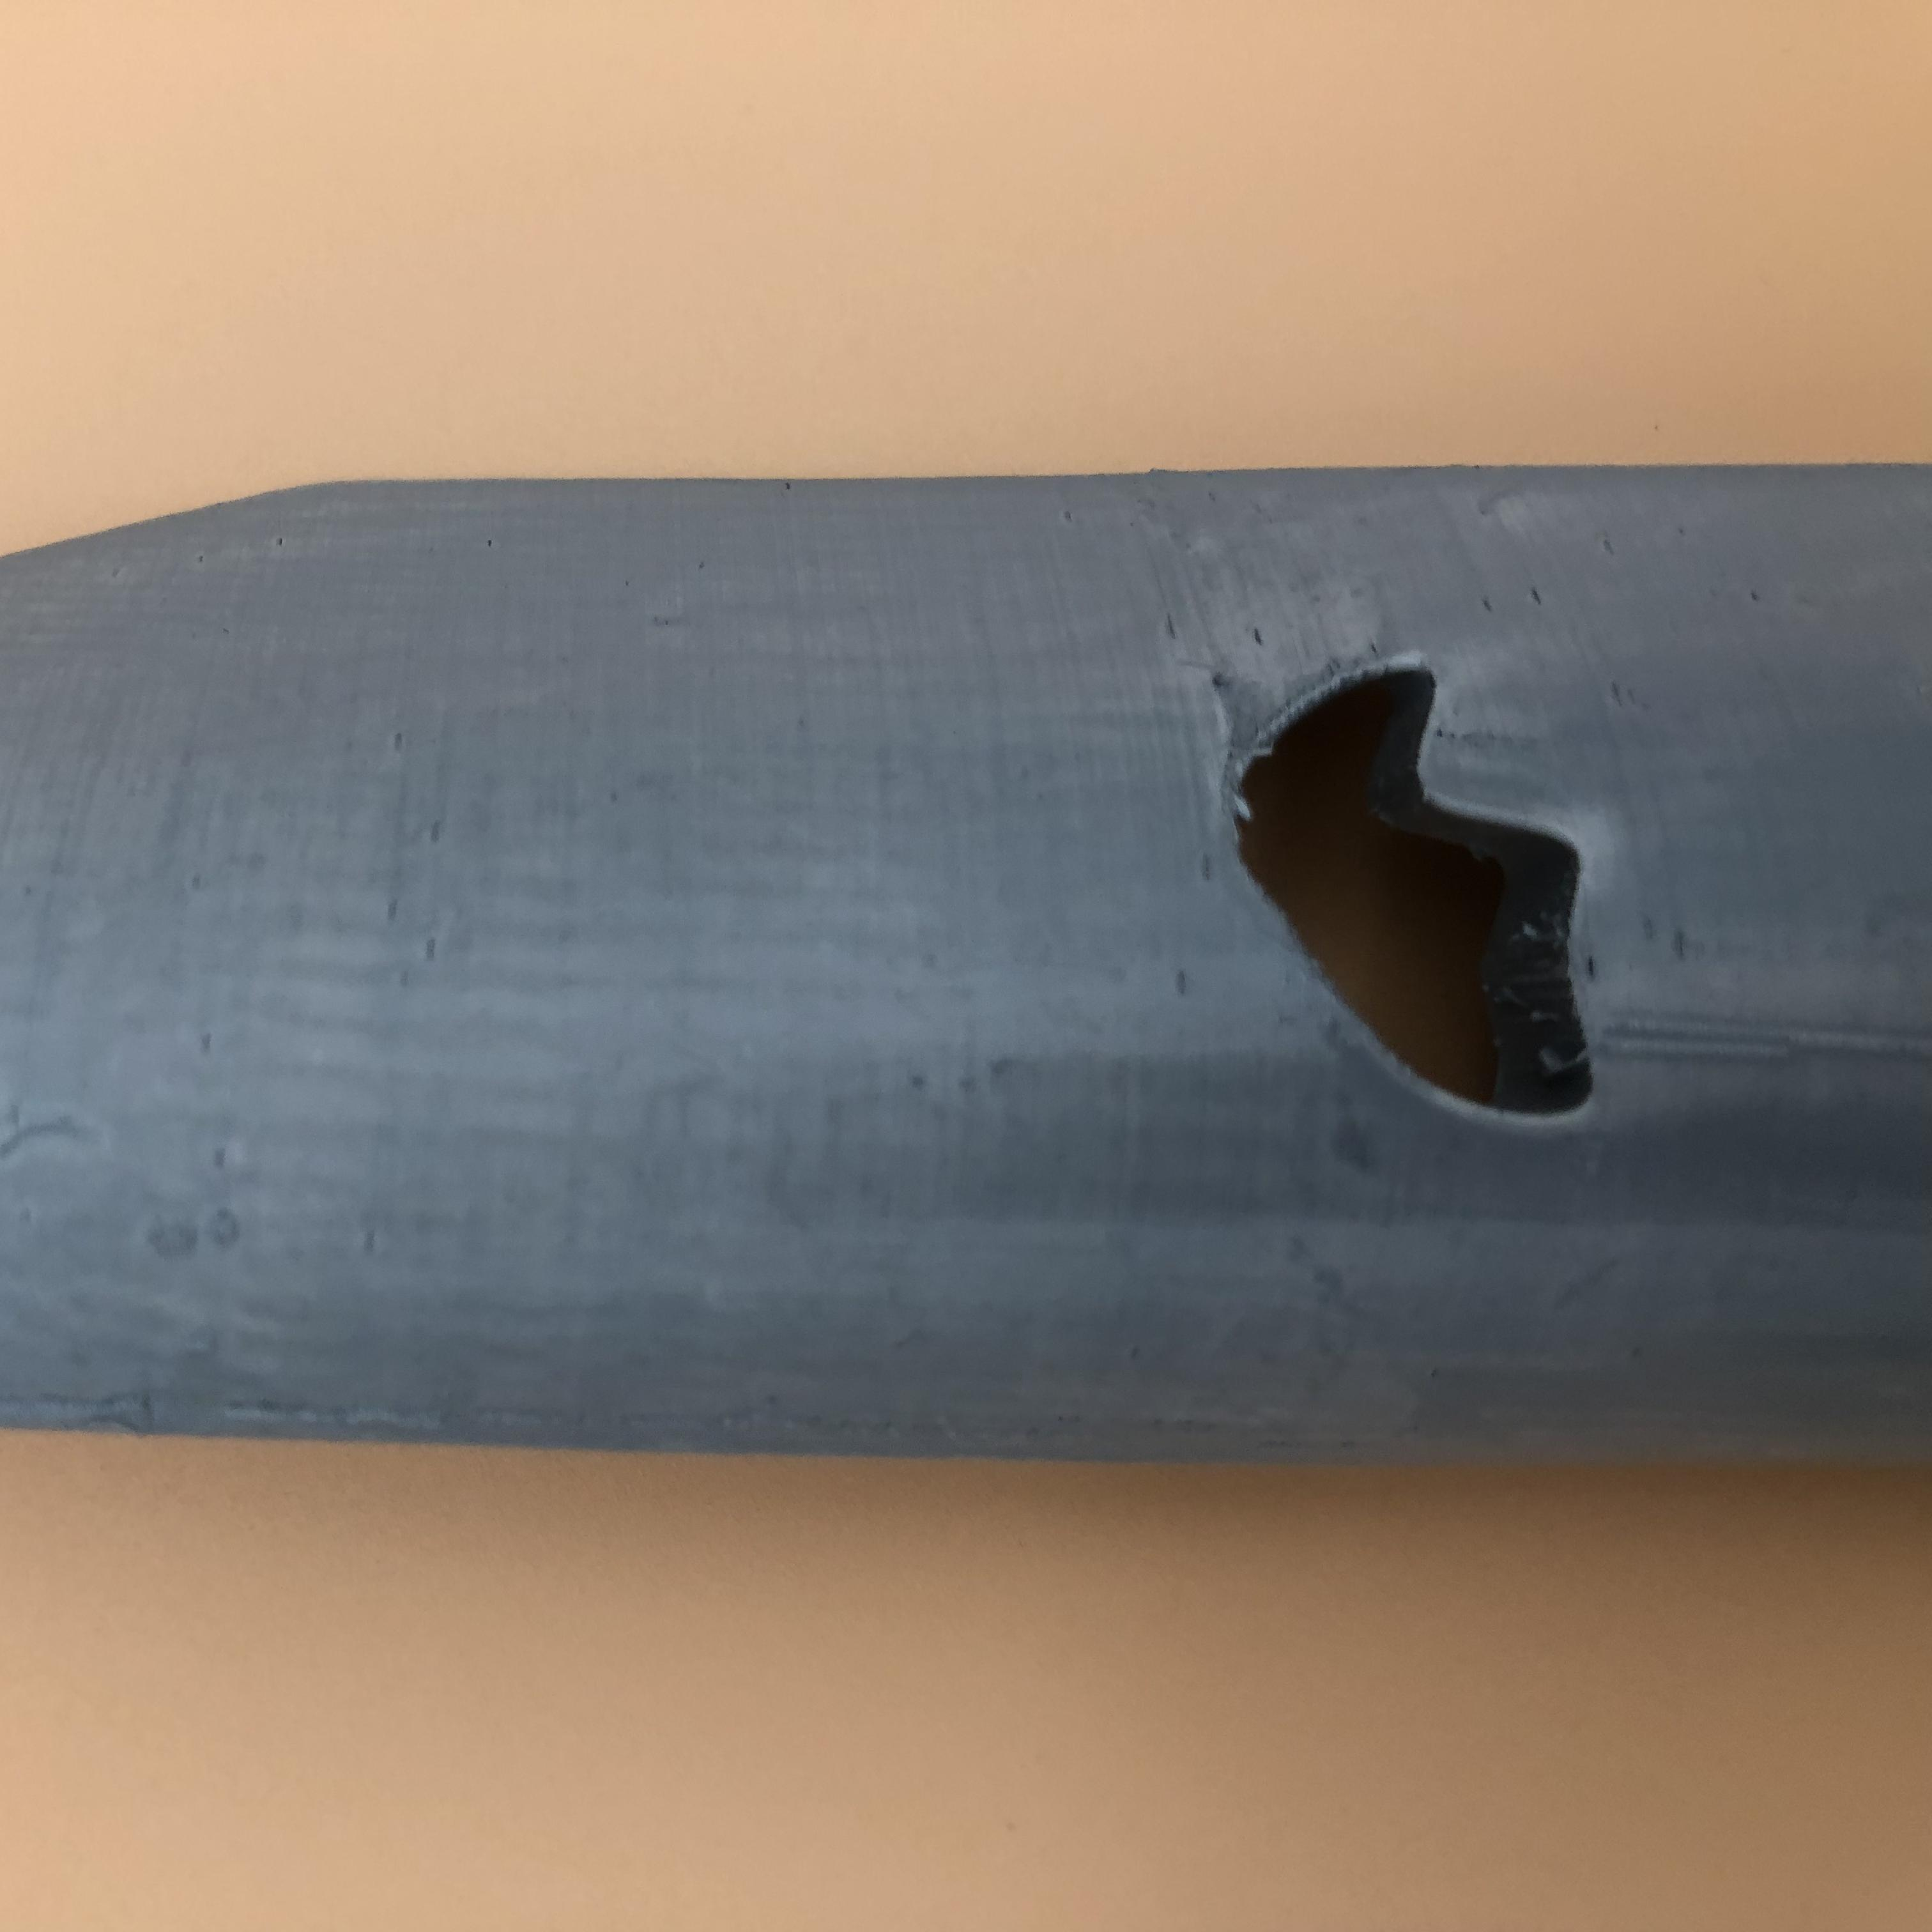breakdown: (1242, 660, 1603, 1132)
